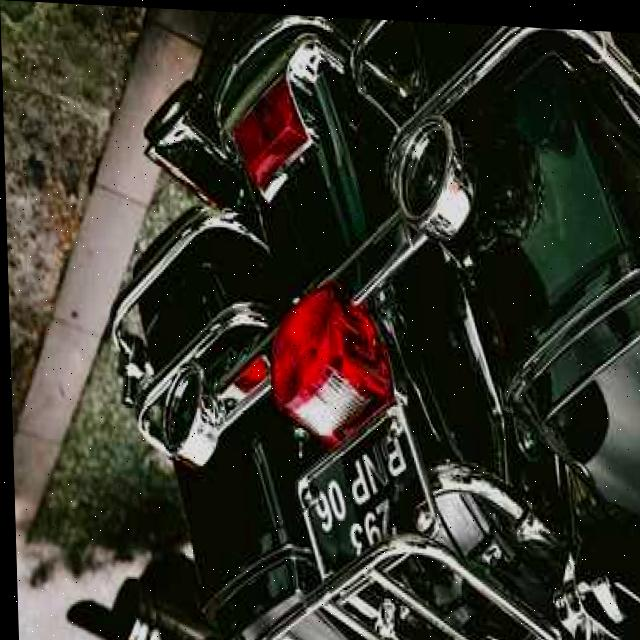plate: (291, 396, 439, 592)
